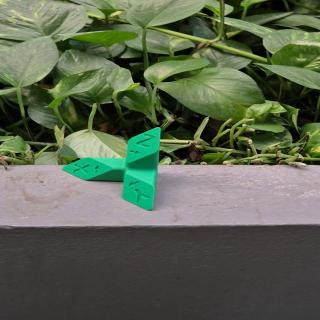eje: (60, 126, 162, 212)
